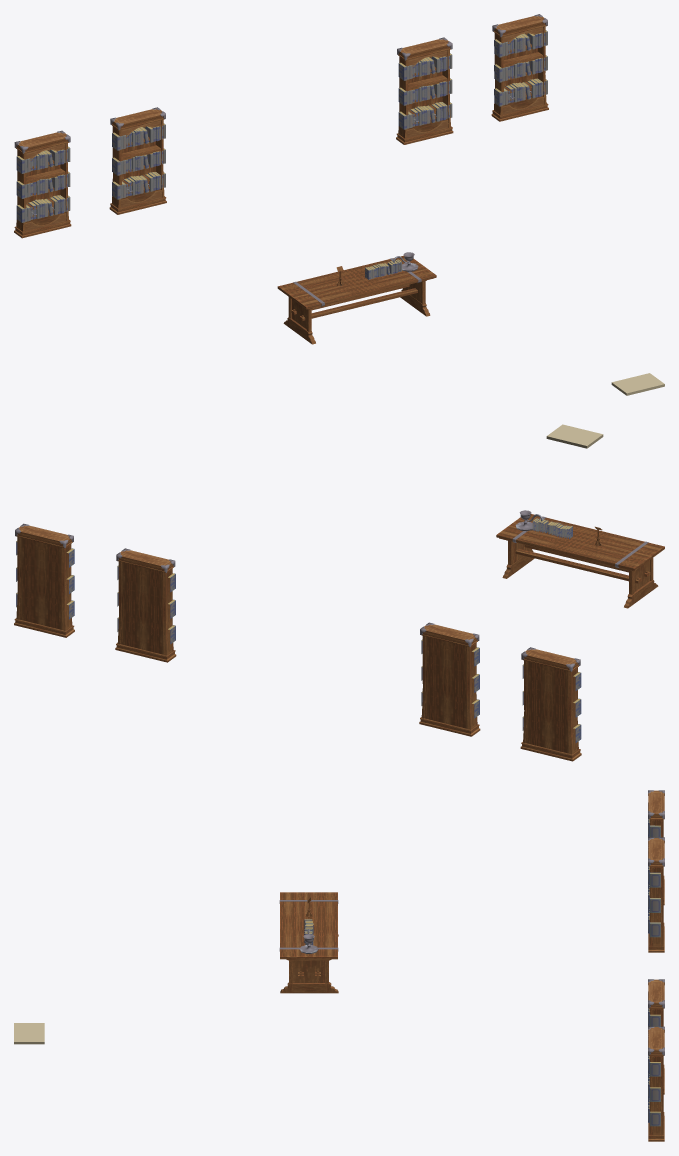
The model's file is realm_copperdelve_3.gltf.
3 renders of one model, top to bottom at view 1: azimuth 30°, elevation 25°; view 2: azimuth 150°, elevation 25°; view 3: azimuth 270°, elevation 25°, orthographic. The views are drawn at different scales.
Parts seen in each view (by area): view 1: cb9df46869a74c2b21acdc562e58e1fd0bcaa177f7275e87e50e477c73f4 (×4), f52aa0036ce251ef1eb08d3699186b9705c3883af59782ac743cf0836182 (×12), f4b04e3619cf212187b96076e7e940da50275113f8897ecbcd59f5921342, b932791e2e642917e7b6c7fe9f891673e9680c5f2345e784416e4144e1ee; view 2: cb9df46869a74c2b21acdc562e58e1fd0bcaa177f7275e87e50e477c73f4 (×4), f4b04e3619cf212187b96076e7e940da50275113f8897ecbcd59f5921342, b932791e2e642917e7b6c7fe9f891673e9680c5f2345e784416e4144e1ee, f52aa0036ce251ef1eb08d3699186b9705c3883af59782ac743cf0836182; view 3: f4b04e3619cf212187b96076e7e940da50275113f8897ecbcd59f5921342, cb9df46869a74c2b21acdc562e58e1fd0bcaa177f7275e87e50e477c73f4 (×4), b932791e2e642917e7b6c7fe9f891673e9680c5f2345e784416e4144e1ee.
Boxes of the visible parts, x1,y1,x2,y2 form: cb9df46869a74c2b21acdc562e58e1fd0bcaa177f7275e87e50e477c73f4 (×4): [14, 14, 548, 238]; f52aa0036ce251ef1eb08d3699186b9705c3883af59782ac743cf0836182 (×12): [16, 30, 547, 222]; f4b04e3619cf212187b96076e7e940da50275113f8897ecbcd59f5921342: [277, 255, 436, 344]; b932791e2e642917e7b6c7fe9f891673e9680c5f2345e784416e4144e1ee: [611, 373, 664, 395]; cb9df46869a74c2b21acdc562e58e1fd0bcaa177f7275e87e50e477c73f4 (×4): [14, 523, 581, 761]; f4b04e3619cf212187b96076e7e940da50275113f8897ecbcd59f5921342: [496, 514, 664, 608]; b932791e2e642917e7b6c7fe9f891673e9680c5f2345e784416e4144e1ee: [546, 424, 603, 448]; f52aa0036ce251ef1eb08d3699186b9705c3883af59782ac743cf0836182: [532, 518, 572, 538]; f4b04e3619cf212187b96076e7e940da50275113f8897ecbcd59f5921342: [279, 892, 338, 993]; cb9df46869a74c2b21acdc562e58e1fd0bcaa177f7275e87e50e477c73f4 (×4): [648, 790, 664, 1141]; b932791e2e642917e7b6c7fe9f891673e9680c5f2345e784416e4144e1ee: [14, 1023, 44, 1044].
Bounding box in the file's own units: 11.03 × 1.8 × 11.64.
8 materials, 8 textured.
